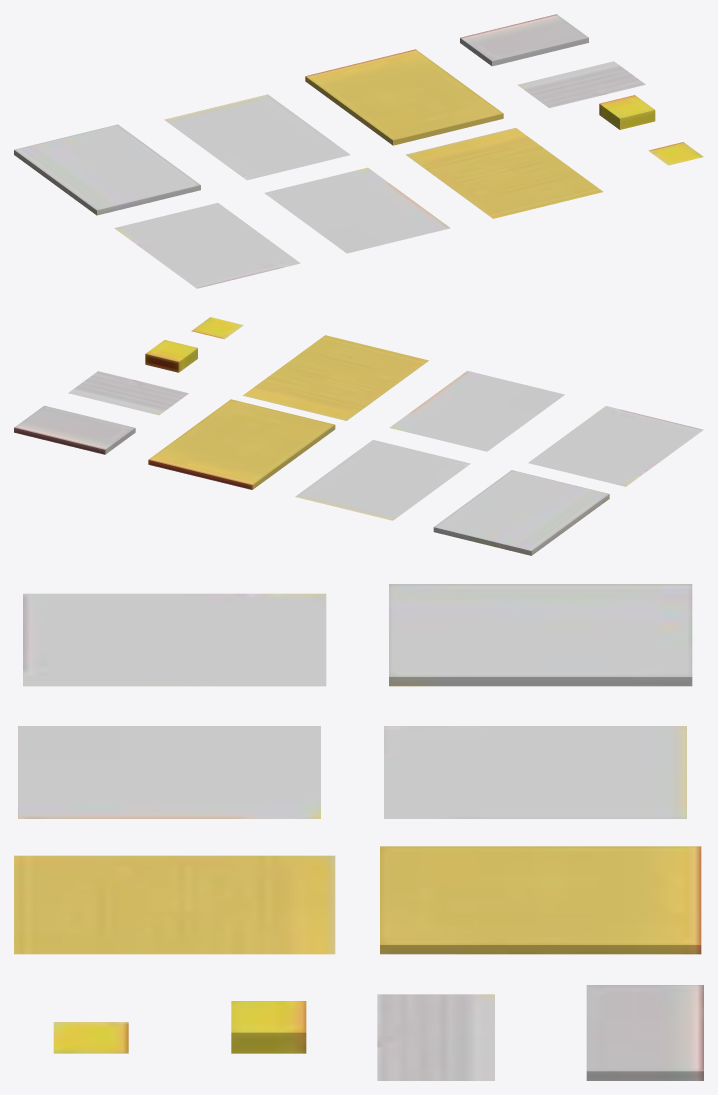
File: office_notepads.glb
3 renders of one model, top to bottom at view 1: azimuth 30°, elevation 25°; view 2: azimuth 150°, elevation 25°; view 3: azimuth 270°, elevation 25°, orthographic. The views are drawn at different scales.
Parts seen in each view (by area): view 1: office_notepads_yellow_pad, office_notepads_yellow_sheet, office_notepads_a4_stack, office_notepads_a4_a, office_notepads_a4_b, office_notepads_a4_c, office_notepads_note_stack, office_notepads_note_sheet, office_notepads_sticky_stack, office_notepads_sticky_sheet; view 2: office_notepads_yellow_pad, office_notepads_yellow_sheet, office_notepads_a4_stack, office_notepads_a4_b, office_notepads_a4_c, office_notepads_a4_a, office_notepads_note_stack, office_notepads_note_sheet, office_notepads_sticky_stack, office_notepads_sticky_sheet; view 3: office_notepads_yellow_pad, office_notepads_yellow_sheet, office_notepads_a4_stack, office_notepads_a4_a, office_notepads_a4_b, office_notepads_a4_c, office_notepads_note_stack, office_notepads_note_sheet, office_notepads_sticky_stack, office_notepads_sticky_sheet.
Boxes of the visible parts, x1=… form: office_notepads_yellow_pad: x1=305, y1=49, x2=503, y2=145; office_notepads_yellow_sheet: x1=406, y1=127, x2=603, y2=218; office_notepads_a4_stack: x1=14, y1=124, x2=200, y2=215; office_notepads_a4_a: x1=114, y1=203, x2=300, y2=288; office_notepads_a4_b: x1=164, y1=94, x2=350, y2=180; office_notepads_a4_c: x1=264, y1=167, x2=450, y2=253; office_notepads_note_stack: x1=460, y1=14, x2=588, y2=66; office_notepads_note_sheet: x1=517, y1=61, x2=645, y2=108; office_notepads_sticky_stack: x1=599, y1=95, x2=655, y2=129; office_notepads_sticky_sheet: x1=648, y1=142, x2=703, y2=165; office_notepads_yellow_pad: x1=148, y1=399, x2=335, y2=489; office_notepads_yellow_sheet: x1=243, y1=335, x2=428, y2=420; office_notepads_a4_stack: x1=433, y1=470, x2=609, y2=555; office_notepads_a4_b: x1=295, y1=440, x2=470, y2=520; office_notepads_a4_c: x1=389, y1=371, x2=564, y2=451; office_notepads_a4_a: x1=528, y1=406, x2=703, y2=486; office_notepads_note_stack: x1=14, y1=405, x2=135, y2=454; office_notepads_note_sheet: x1=68, y1=371, x2=188, y2=415; office_notepads_sticky_stack: x1=145, y1=340, x2=197, y2=372; office_notepads_sticky_sheet: x1=191, y1=317, x2=243, y2=339; office_notepads_yellow_pad: x1=380, y1=846, x2=701, y2=954; office_notepads_yellow_sheet: x1=14, y1=855, x2=335, y2=954; office_notepads_a4_stack: x1=389, y1=584, x2=692, y2=686; office_notepads_a4_a: x1=23, y1=593, x2=326, y2=686; office_notepads_a4_b: x1=384, y1=726, x2=686, y2=818; office_notepads_a4_c: x1=18, y1=726, x2=320, y2=818; office_notepads_note_stack: x1=586, y1=985, x2=703, y2=1080; office_notepads_note_sheet: x1=377, y1=994, x2=494, y2=1080; office_notepads_sticky_stack: x1=231, y1=1001, x2=306, y2=1053; office_notepads_sticky_sheet: x1=53, y1=1022, x2=128, y2=1053.
Size of the model in its own units: 1.1 by 0.022 by 0.6598.
1 material, 1 textured.
